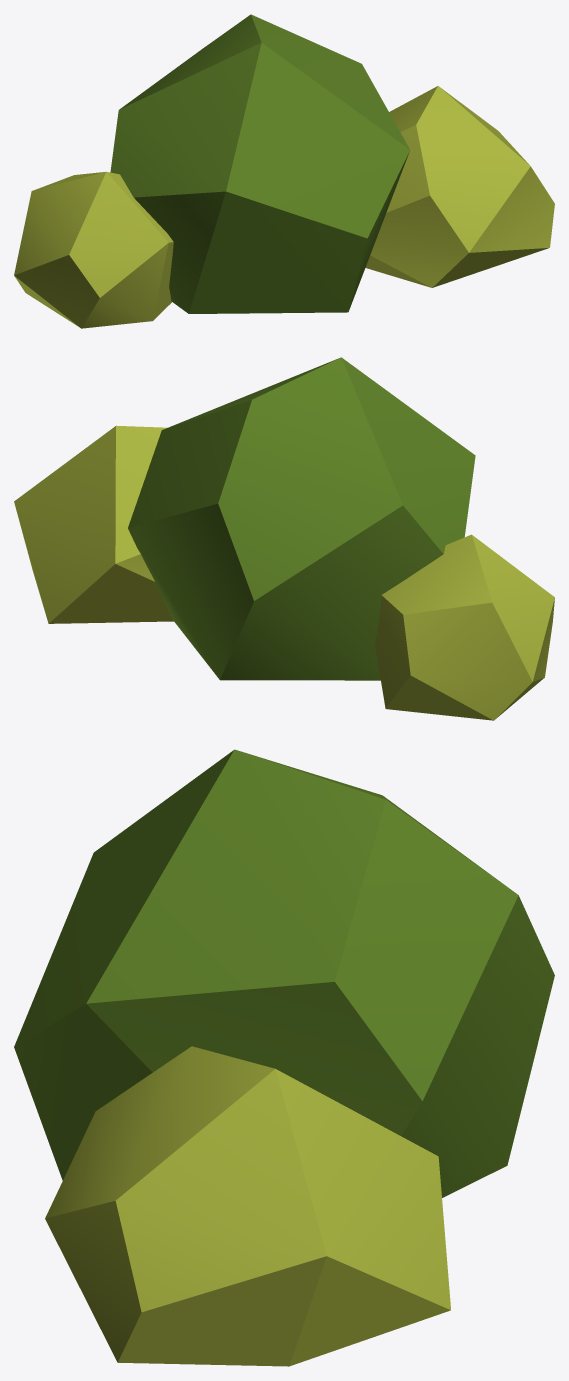
File: Shrub 1.fbx
The picture shows the model from 3 angles, top to bottom: view 1: azimuth 30°, elevation 25°; view 2: azimuth 150°, elevation 25°; view 3: azimuth 270°, elevation 25°; orthographic projection. The views are drawn at different scales.
Visible parts, largest first — view 1: Shrub_01; view 2: Shrub_01; view 3: Shrub_01.
Part boxes in pixels (bbox=[...]): Shrub_01: bbox=[14, 14, 554, 328]; Shrub_01: bbox=[14, 357, 554, 720]; Shrub_01: bbox=[14, 749, 554, 1366].
Size of the model in its own units: 89.11 by 43.4 by 52.39.
